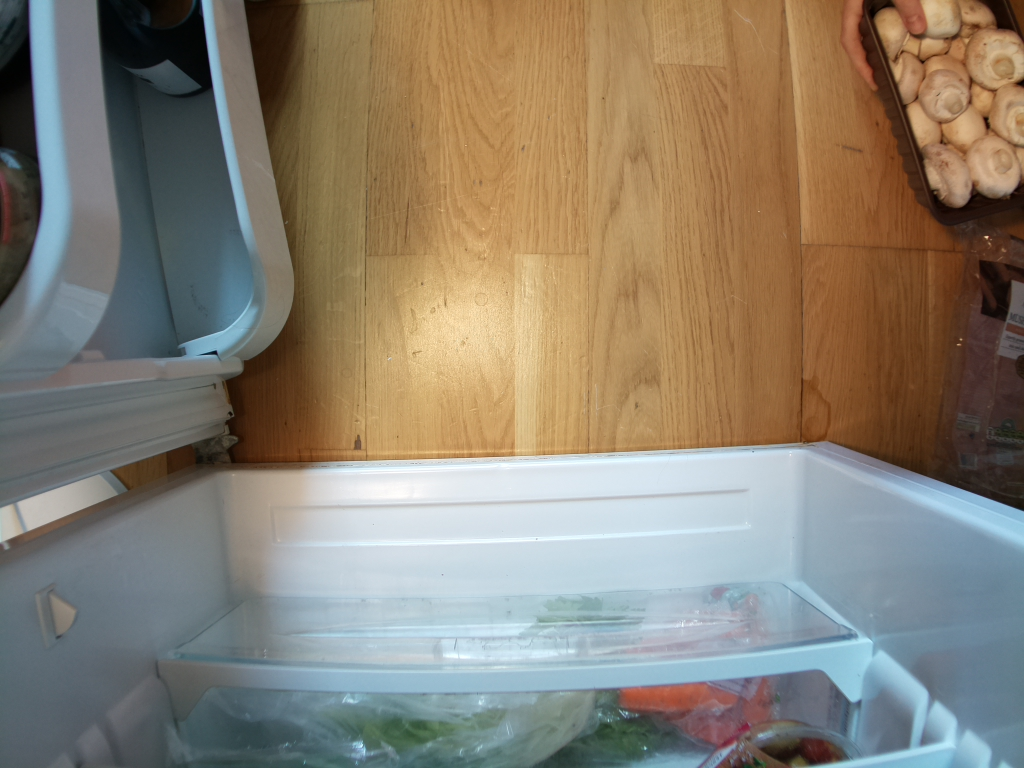mushrooms: (857, 1, 1024, 237)
